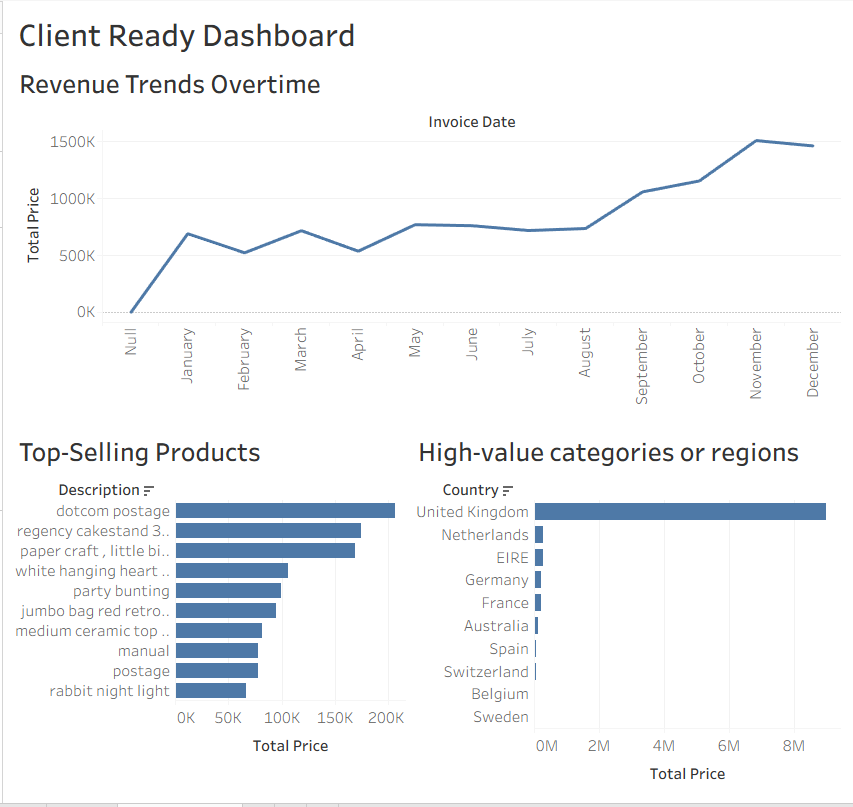

This screenshot's page, from the dashboard's own definition file:
{"tool":"tableau","page":{"name":"Dashboard 1","canvas":[1000,1000],"units":"permille","ordinal":0},"visuals":[{"type":"title","box":[9.4,10,981.2,61.1]},{"type":"worksheet","title":"Sheet 1","mark":"Automatic","rows":["Total Price"],"cols":["InvoiceDate"],"box":[9.4,71.1,981.2,459.5]},{"type":"worksheet","title":"Sheet 2","mark":"Automatic","rows":["Description"],"cols":["Total Price"],"box":[9.4,530.5,468.9,459.5]},{"type":"worksheet","title":"Sheet 3","mark":"Automatic","rows":["Country"],"cols":["Total Price"],"box":[478.3,530.5,512.3,459.5]}]}

Visuals, with their boxes on the dashboard's canvas, which has no fixed pixel size, in thousandths of its width and height (x1, y1, x2, y2). These are canvas units, not pixel positions in the 853x807 screenshot, which may show the page scaled, cropped or inside an application window:
title: (9, 10, 991, 71)
"Sheet 1" worksheet: (9, 71, 991, 531)
"Sheet 2" worksheet: (9, 530, 478, 990)
"Sheet 3" worksheet: (478, 530, 991, 990)
